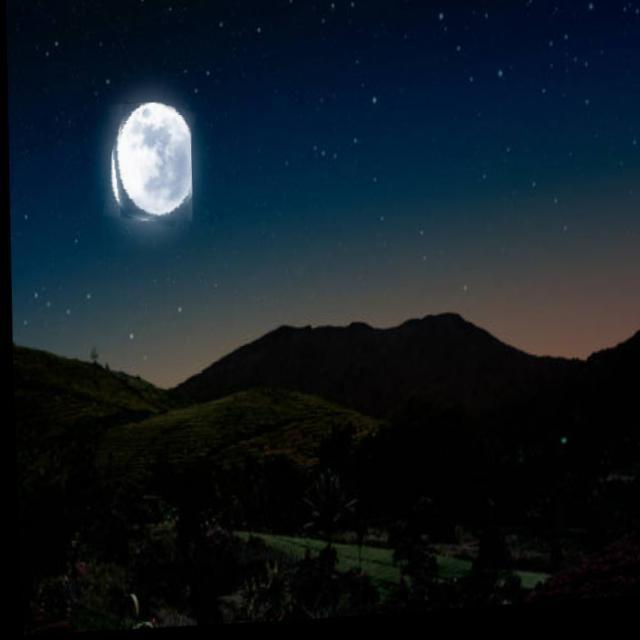moon: (102, 102, 193, 230)
